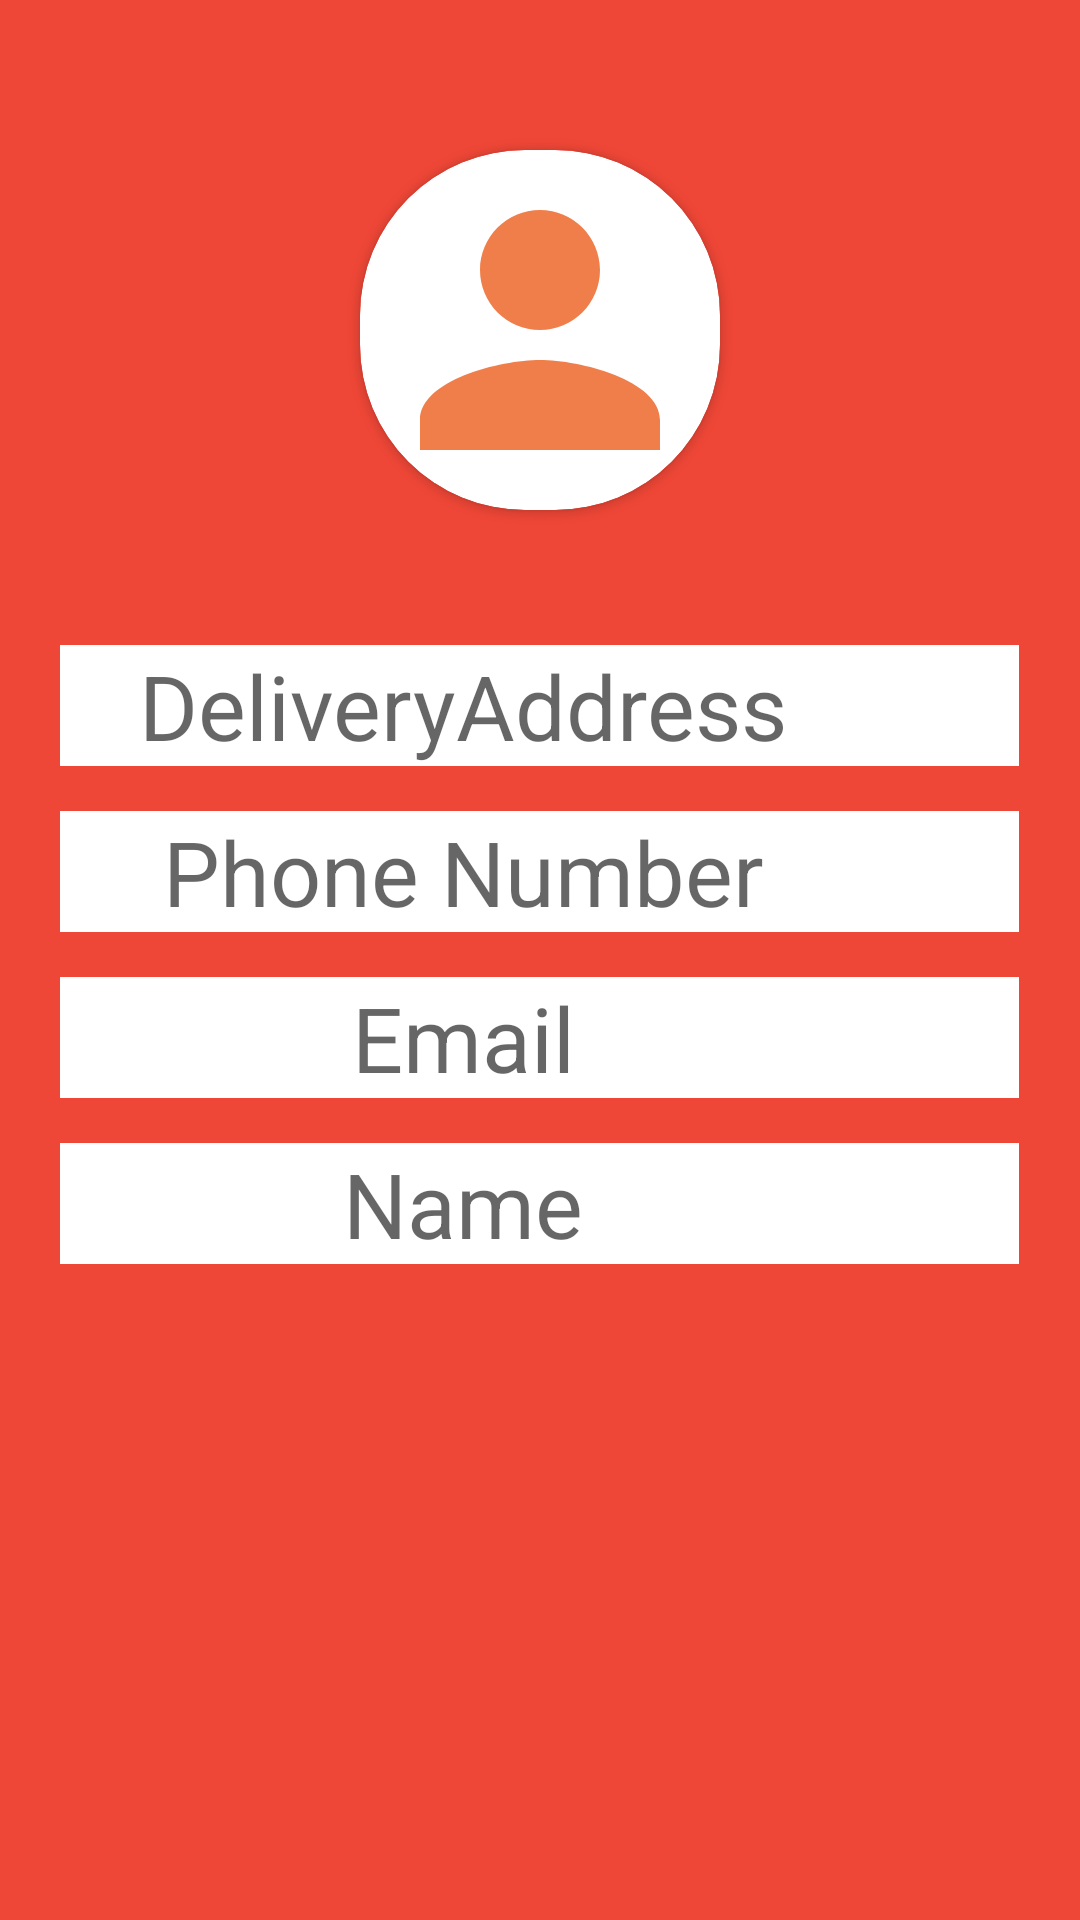

Where to tap for icons on this 1080 × 1920 app screen, as (x=x, y=y):
person: (x=540, y=330)
